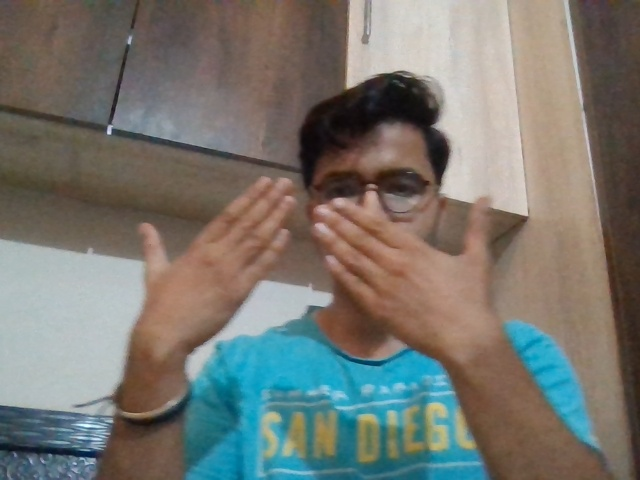thankyou: (114, 162, 513, 414)
